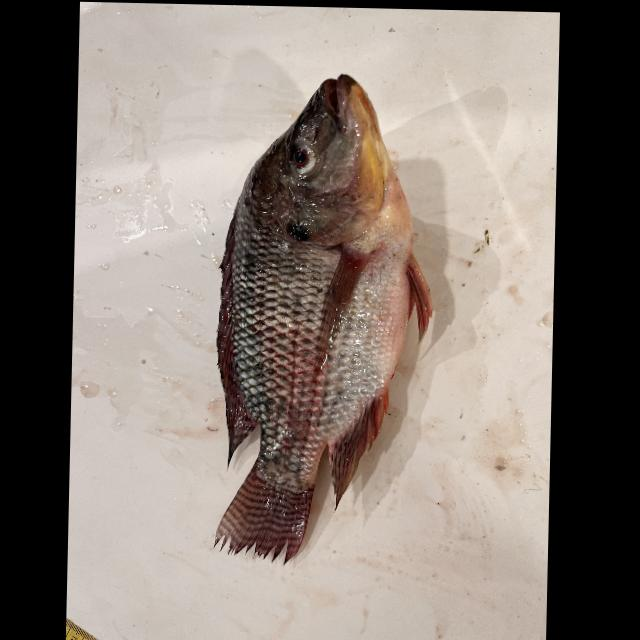Tilapia: (208, 71, 439, 566)
